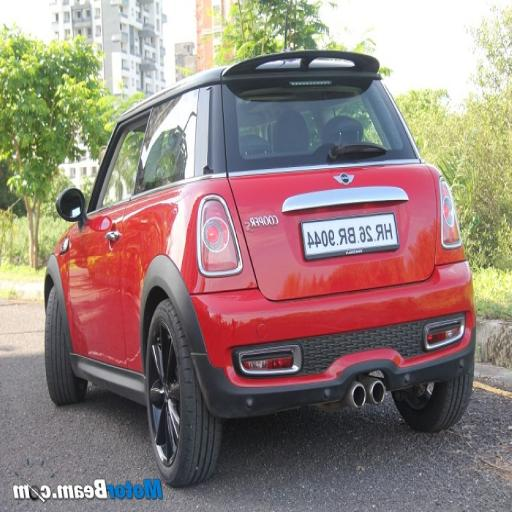License: (298, 210, 400, 269)
